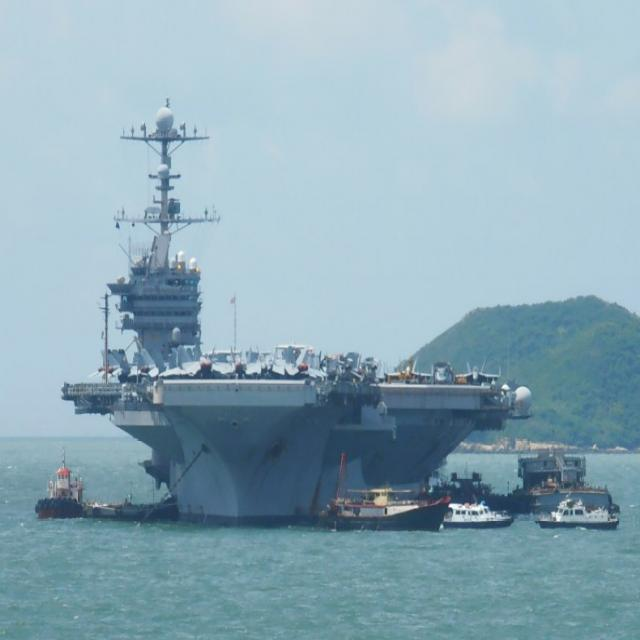Portanaves: (63, 96, 544, 523)
